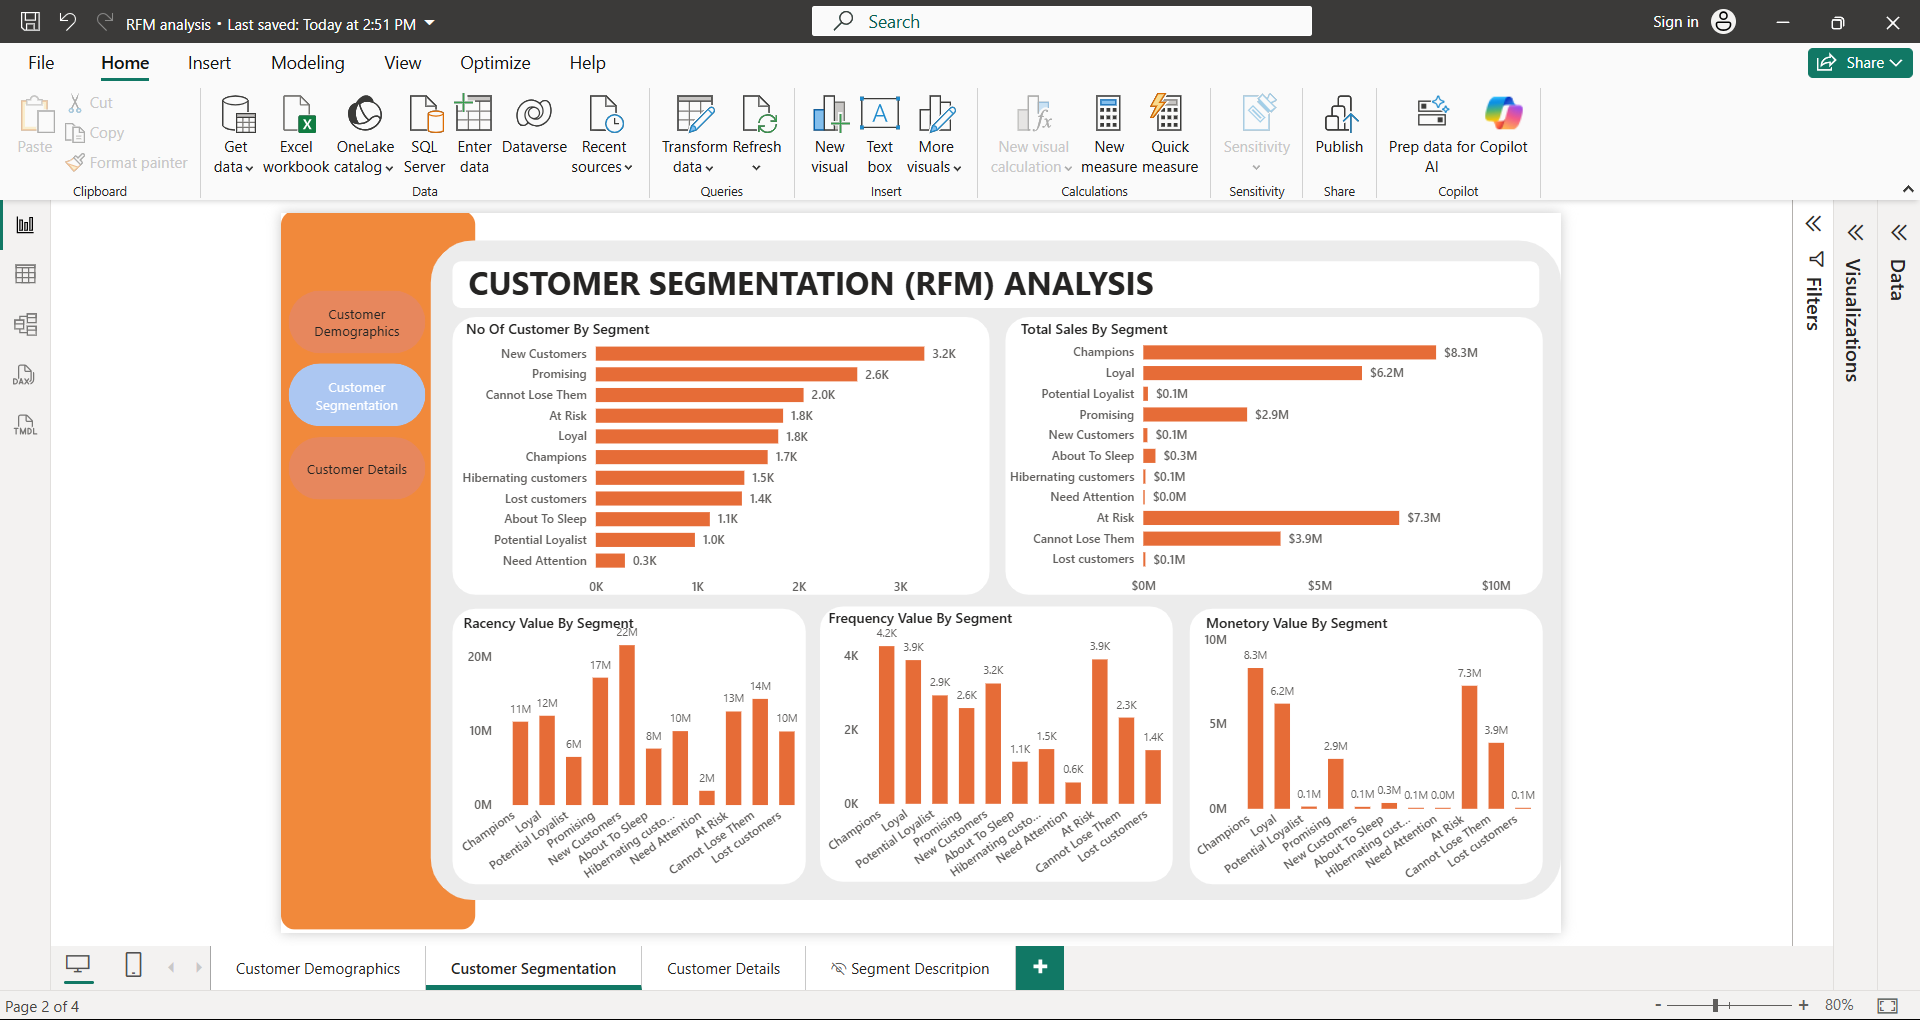

The dashboard page shown, as its layout file describes it:
{"tool":"powerbi","page":{"name":"Customer Segmentation","canvas":[1280,720],"ordinal":1},"visuals":[{"type":"clusteredBarChart","fields":{"Category":["Segment Table.Segment"],"Y":["Count(FactInternetSales.CustomerKey)"]},"box":[175,112.5,512.5,280],"z":0},{"type":"textbox","box":[180,101.2,217.5,35],"z":1000},{"type":"clusteredBarChart","fields":{"Category":["Segment Table.Segment"],"Y":["Sum(FactInternetSales.SalesAmount)"]},"box":[722.5,111.2,512.5,280],"z":2000},{"type":"textbox","box":[735,101.2,217.5,35],"z":3000},{"type":"clusteredColumnChart","fields":{"Category":["Segment Table.Segment"],"Y":["Sum(RFM Table.Racency Value)"]},"box":[171.2,392.5,358.8,288.8],"z":4000},{"type":"clusteredColumnChart","fields":{"Category":["Segment Table.Segment"],"Y":["Sum(RFM Table.Frequency Value)"]},"box":[537.5,391.2,358.8,288.8],"z":5000},{"type":"clusteredColumnChart","fields":{"Category":["Segment Table.Segment"],"Y":["Sum(RFM Table.Monetory Value)"]},"box":[906.2,412.5,360,267.5],"z":6000},{"type":"textbox","box":[177.5,395,217.5,35],"z":7000},{"type":"textbox","box":[542.5,390,217.5,35],"z":8000},{"type":"textbox","box":[920,395,217.5,35],"z":9000},{"type":"textbox","box":[182.5,42.5,701.2,58.8],"z":10000},{"type":"pageNavigator","box":[7.1,77.1,137.1,211.4],"z":10001}]}

Visuals, with their boxes on the page's 1280x720 design canvas (x1, y1, x2, y2). These are canvas units, not pixel positions in the 1920x1020 screenshot, which may show the page scaled, cropped or inside an application window:
clusteredBarChart - Segment Table.Segment x Count(FactInternetSales.CustomerKey): crop(175, 112, 688, 392)
textbox: crop(180, 101, 398, 136)
clusteredBarChart - Segment Table.Segment x Sum(FactInternetSales.SalesAmount): crop(722, 111, 1235, 391)
textbox: crop(735, 101, 952, 136)
clusteredColumnChart - Segment Table.Segment x Sum(RFM Table.Racency Value): crop(171, 392, 530, 681)
clusteredColumnChart - Segment Table.Segment x Sum(RFM Table.Frequency Value): crop(538, 391, 896, 680)
clusteredColumnChart - Segment Table.Segment x Sum(RFM Table.Monetory Value): crop(906, 412, 1266, 680)
textbox: crop(178, 395, 395, 430)
textbox: crop(542, 390, 760, 425)
textbox: crop(920, 395, 1138, 430)
textbox: crop(182, 42, 884, 101)
pageNavigator: crop(7, 77, 144, 288)
